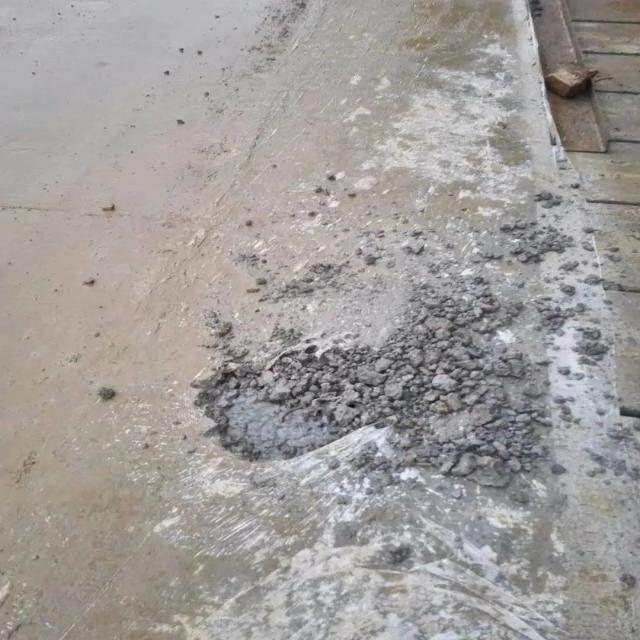pothole: (179, 336, 451, 475)
